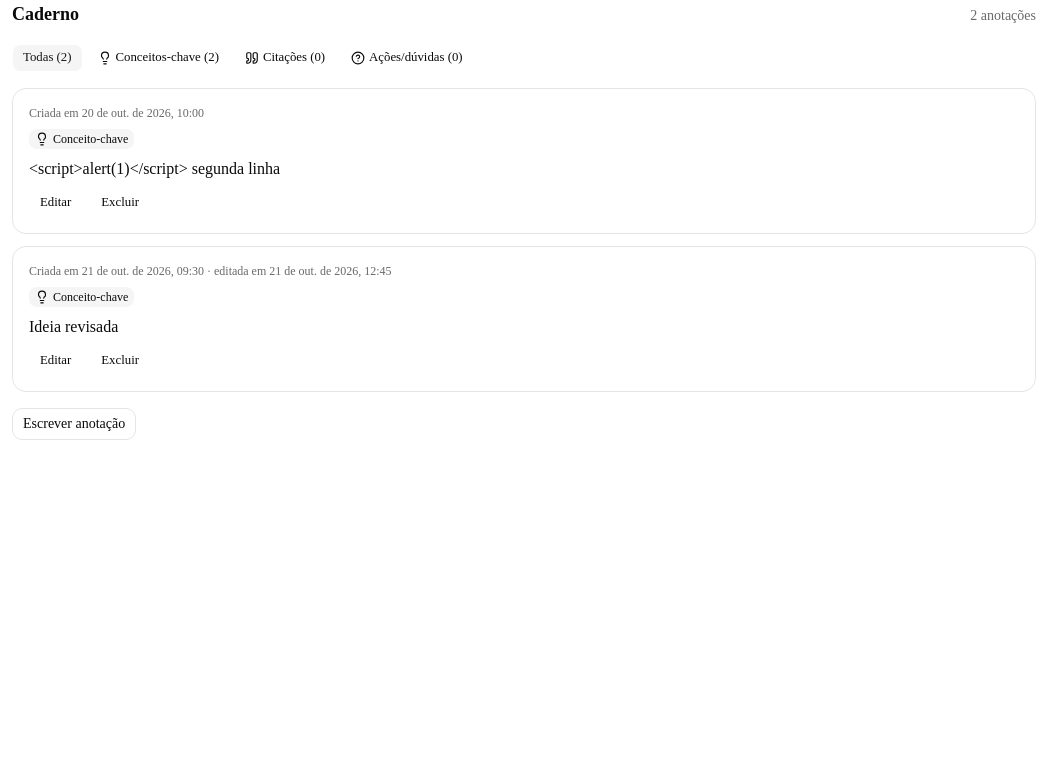
Test: Notebook › loads the editor only when the reader starts writing
Check: the field labelled "Nova anotação" is not shown
Click the button "Escrever anotação" at (74, 424), box [12,408,136,440]
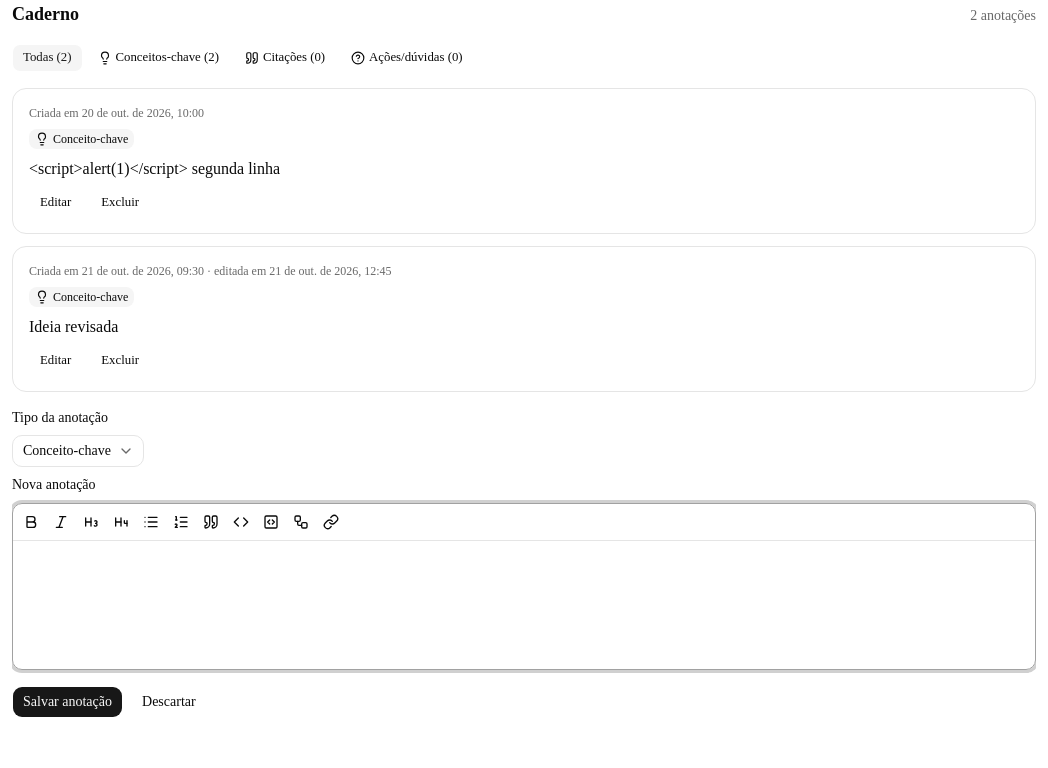
Check: the field named "Nova anotação" is shown, box [13,541,1035,669]
